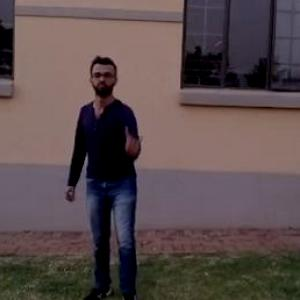takeoff-hand: (122, 118, 151, 160)
